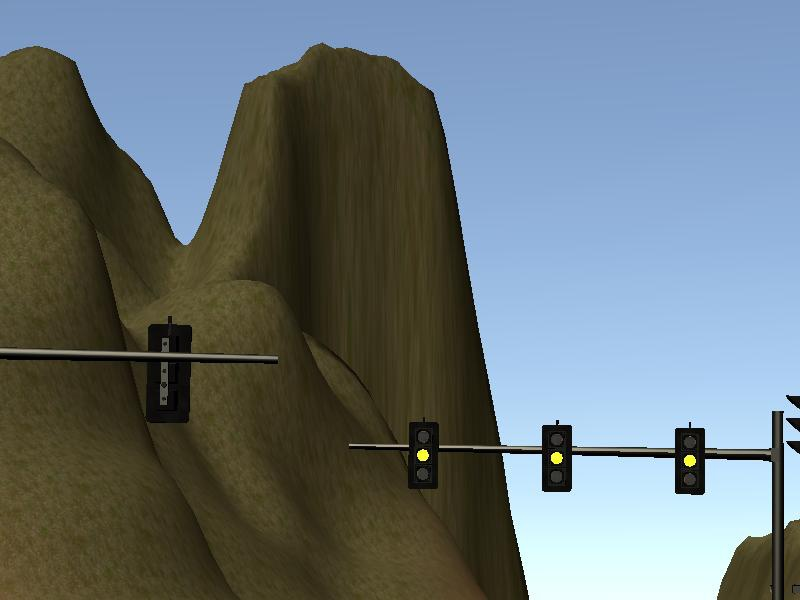yellow_light: (677, 428, 704, 492), (410, 424, 436, 487), (544, 427, 570, 490)
